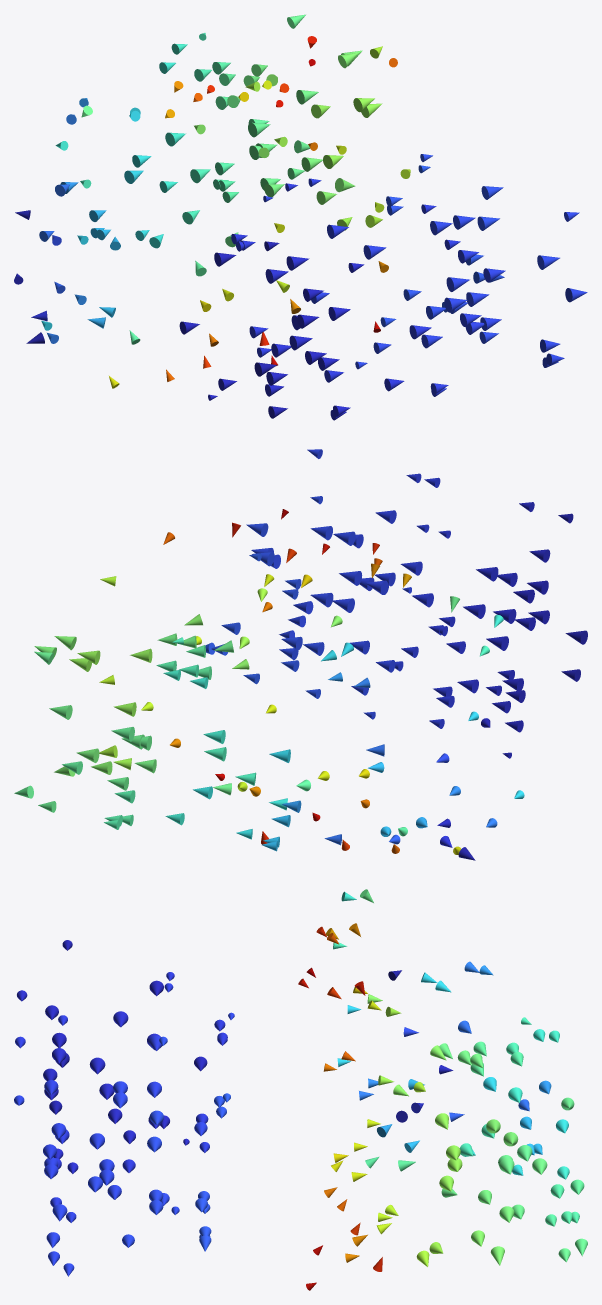
Rendered from LineasCorrienteN2-H2O_mh2-2.70_V-1.glb.
The picture shows the model from 3 angles, top to bottom: view 1: azimuth 30°, elevation 25°; view 2: azimuth 150°, elevation 25°; view 3: azimuth 270°, elevation 25°; orthographic projection.
Size of the model in its own units: 0.000974 by 0.000707 by 0.00119.
2 materials, 2 textured.
